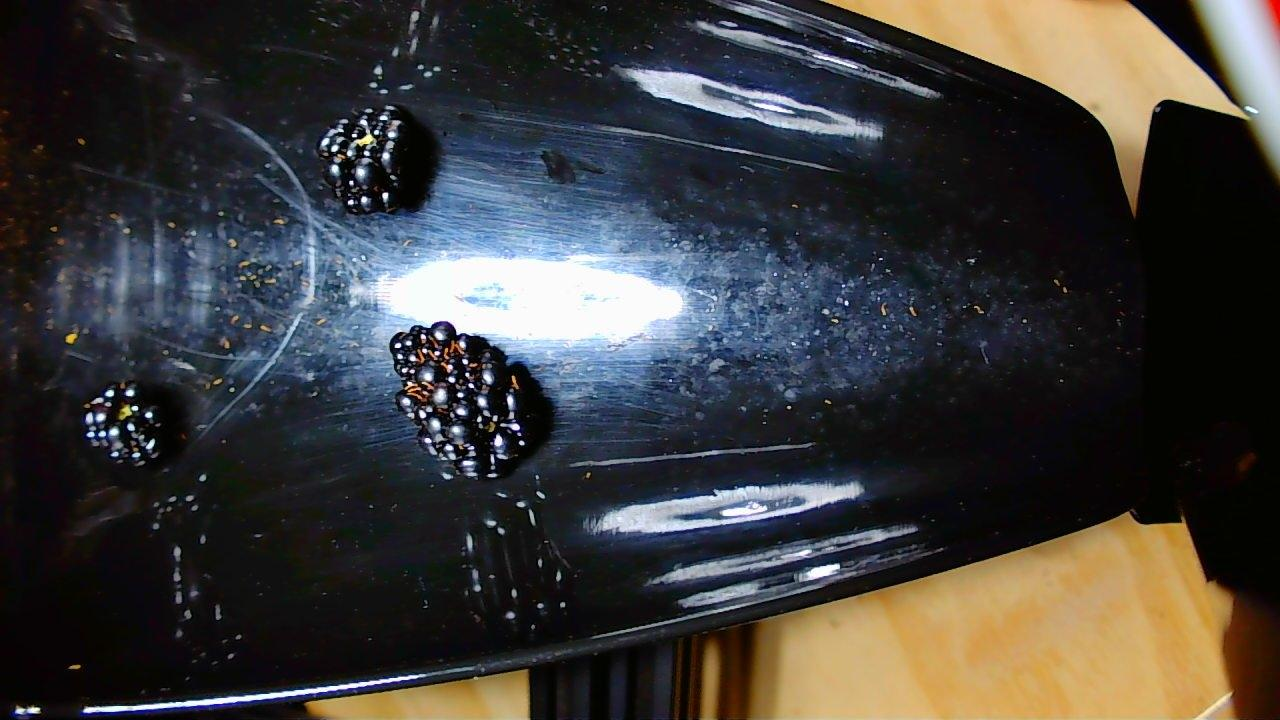berry: (390, 319, 538, 485), (322, 101, 405, 214), (78, 381, 168, 473)
